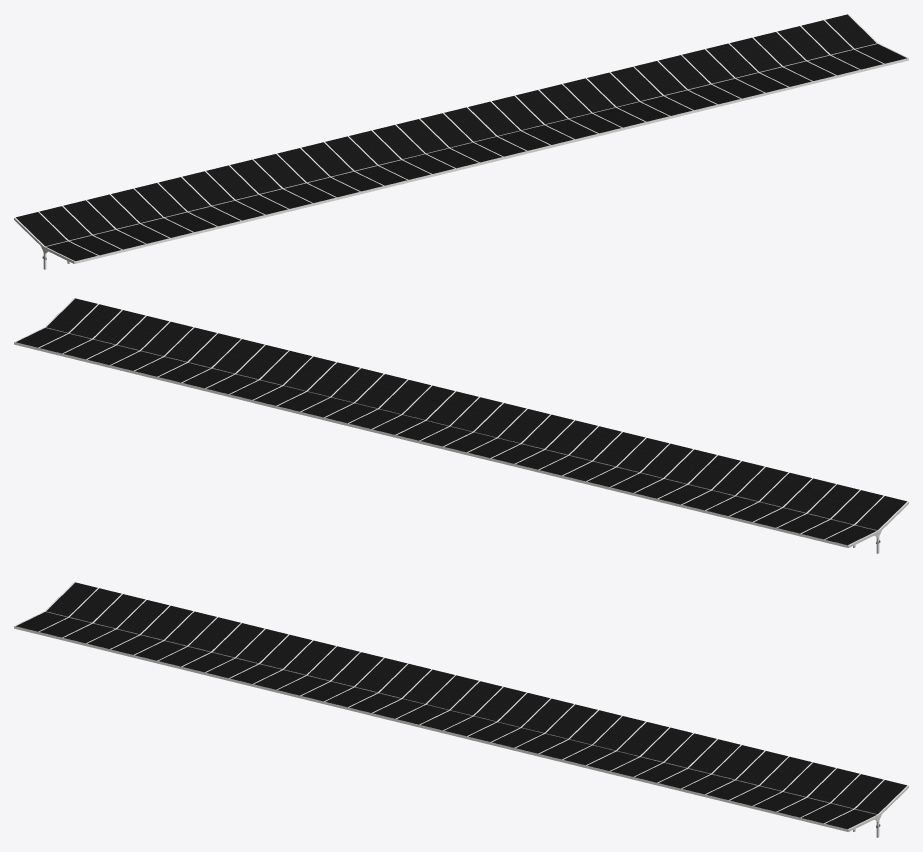
Rendered from Pac_70.glb.
The picture shows the model from 3 angles, top to bottom: view 1: azimuth 30°, elevation 25°; view 2: azimuth 150°, elevation 25°; view 3: azimuth 330°, elevation 25°; orthographic projection.
Parts seen in each view (by area): view 1: Left.050; view 2: Left.050; view 3: Left.050.
Part boxes in pixels (box(x1,y1,x2,y2)): Left.050: box(14, 14, 908, 269); Left.050: box(14, 298, 908, 553); Left.050: box(14, 582, 908, 837).
Bounding box in the file's own units: 92.28 × 3.15 × 11.56.
Materials: 36 (30 with a texture image).
